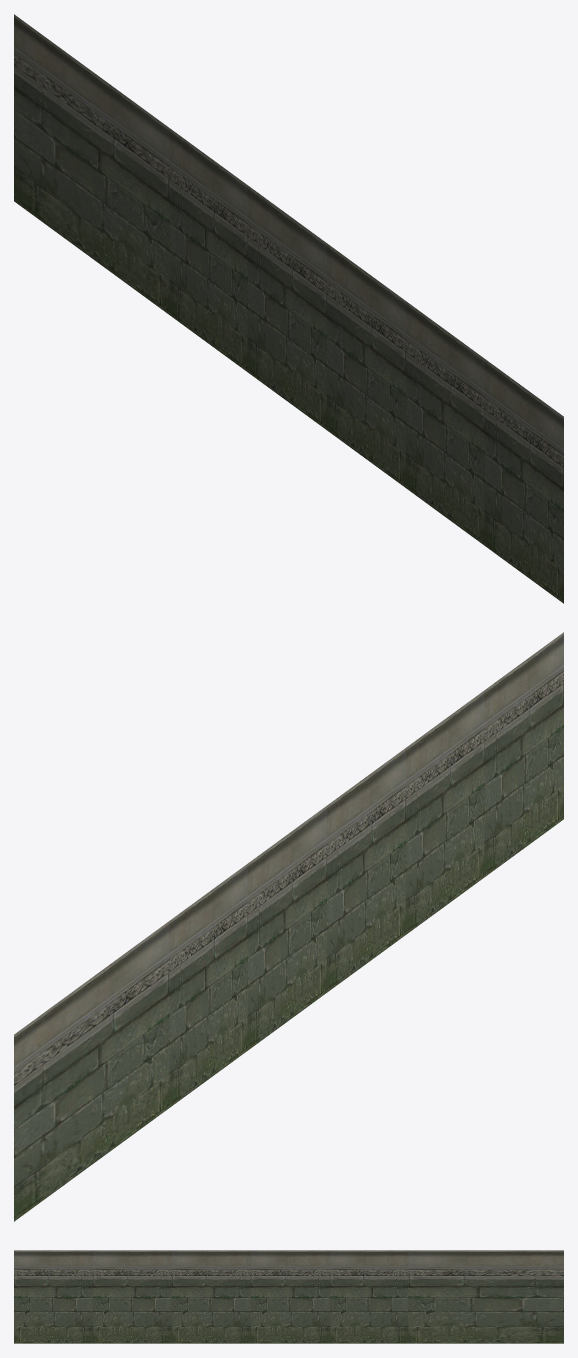
Rendered from Yland1_q_06 Yland1.FBX.
The picture shows the model from 3 angles, top to bottom: view 1: azimuth 30°, elevation 25°; view 2: azimuth 150°, elevation 25°; view 3: azimuth 270°, elevation 25°; orthographic projection. The views are drawn at different scales.
Parts seen in each view (by area): view 1: Yland1_q_06 Yland1; view 2: Yland1_q_06 Yland1; view 3: Yland1_q_06 Yland1.
Boxes of the visible parts, left/top/right/bottom form: Yland1_q_06 Yland1: left=14, top=14, right=563, bottom=603; Yland1_q_06 Yland1: left=14, top=632, right=563, bottom=1221; Yland1_q_06 Yland1: left=14, top=1250, right=563, bottom=1343.
Bounding box in the file's own units: 0 × 3.89 × 20.7.
